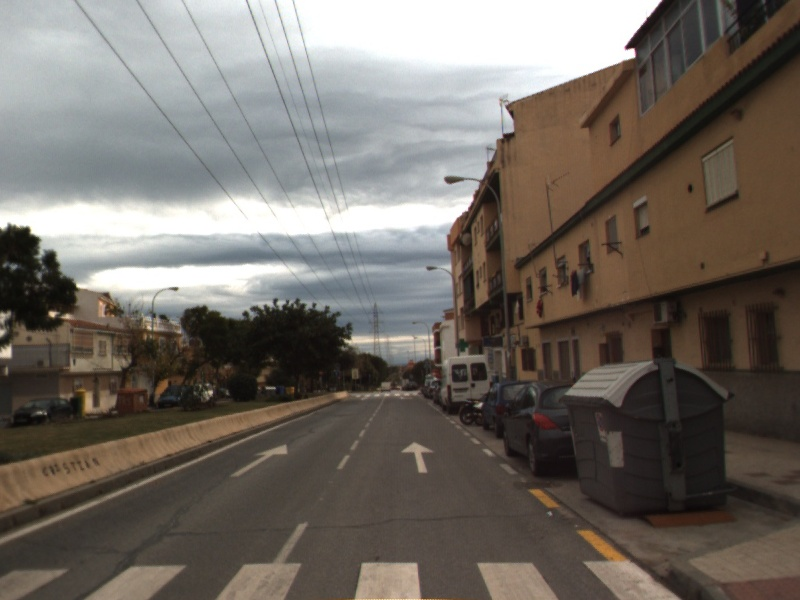STRAIGHT: (227, 443, 290, 479), (399, 440, 437, 475)
